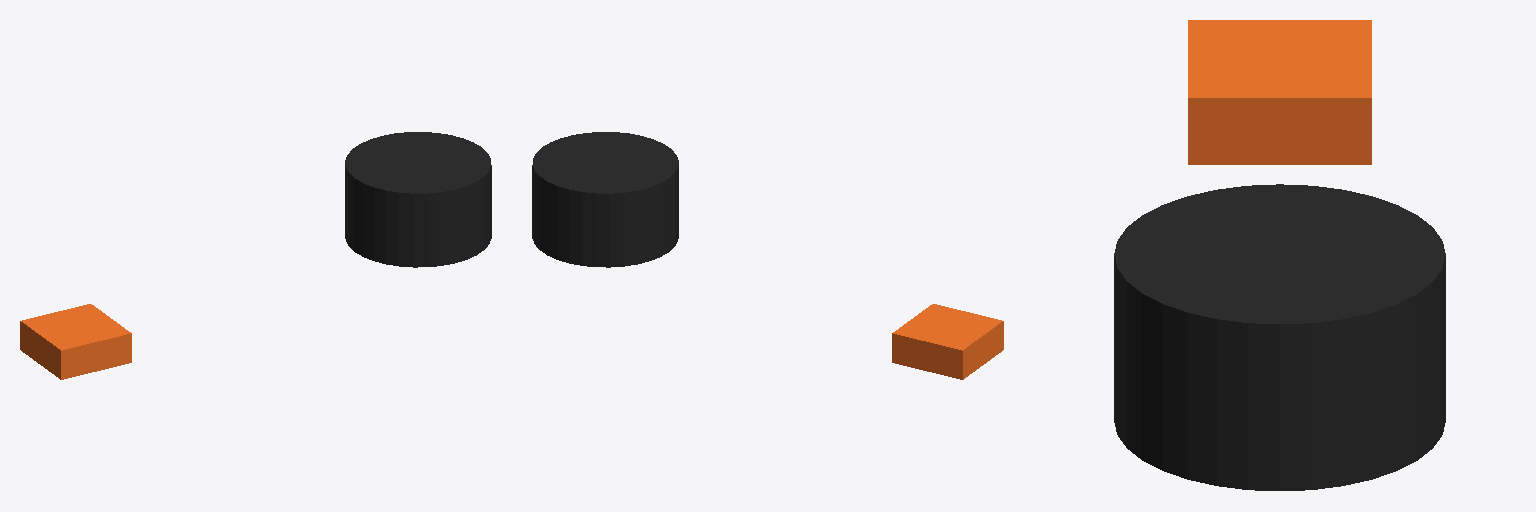
URDF robot description (roboy3DTest):
<robot name="roboy3DTest">
  <material name="orange">
    <color rgba="1.0 0.5 0.2 1" />
  </material>
  <material name="gray">
    <color rgba="0.2 0.2 0.2 1" />
  </material>

  <link name="livox_frame">
    <visual>
      <origin xyz="0 0 0" />
      <geometry>
        <cylinder length="0.05" radius="0.045" />
      </geometry>
      <material name="gray" />
    </visual>
  </link>

  <link name="imu">
    <visual>
      <origin xyz="0 0 0" />
      <geometry>
        <box size="0.05 0.05 0.02" />
      </geometry>
      <material name="orange" />
    </visual>
  </link>

  <link name="base_link" />

  <joint name="laser_joint" type="fixed">
    <parent link="base_link" />
    <child link="livox_frame" />
    <origin xyz="0.2425 0.0 0.0397" />
  </joint>

  <joint name="imu_joint" type="fixed">
    <parent link="base_link" />
    <child link="imu" />
    <origin xyz="0 0 0" />
  </joint>

</robot>

--- What the picture shows (computed from the rendered views, not written in the file) ---
The picture shows the robot from 3 angles, left to right: view 1: azimuth 30°, elevation 25°; view 2: azimuth 150°, elevation 25°; view 3: azimuth 270°, elevation 25°; orthographic projection.
Model roboy3DTest with 3 links and 2 joints (2 fixed), rooted at base_link, posed every joint at zero.
Visible links, largest first — view 1: livox_frame, imu; view 2: livox_frame, imu; view 3: livox_frame, imu.
Link boxes in pixels (x1,y1,x2,y2): livox_frame: (345,132,491,267); imu: (20,304,131,379); livox_frame: (532,132,678,267); imu: (892,304,1003,379); livox_frame: (1114,184,1445,490); imu: (1188,20,1371,164).
Size in the robot's own frame: 0.3125 by 0.09 by 0.0747 metres.
Geometry: primitives only (box / cylinder / sphere), no mesh files.